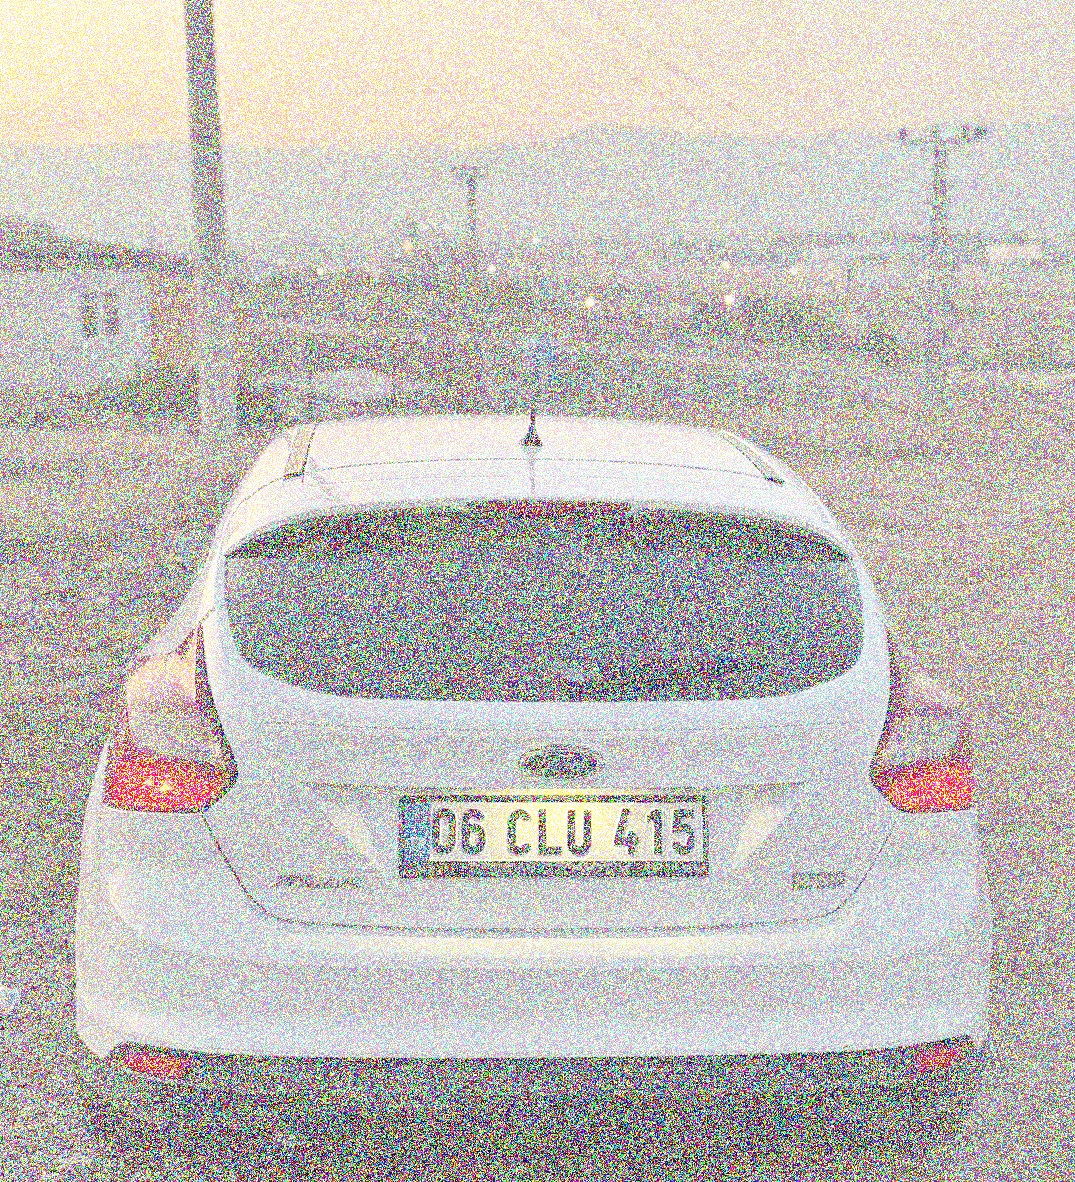plaka: (418, 790, 702, 865)
